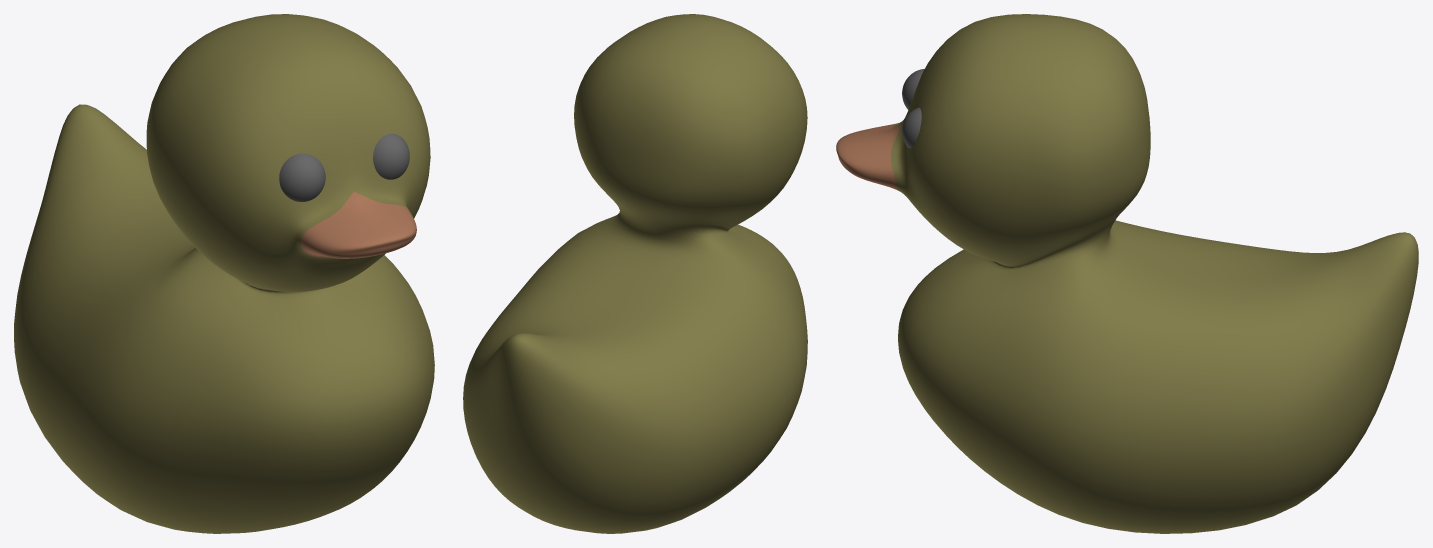
The model's file is duck_smooth.fbx.
The picture shows the model from 3 angles, left to right: view 1: azimuth 30°, elevation 25°; view 2: azimuth 150°, elevation 25°; view 3: azimuth 270°, elevation 25°; orthographic projection. The views are drawn at different scales.
Visible parts, largest first — view 1: pCube1, pSphere1, pSphere2; view 2: pCube1; view 3: pCube1.
Part boxes in pixels (x1,y1,x2,y2): pCube1: (14,14,434,533); pSphere1: (279,153,325,201); pSphere2: (373,133,409,179); pCube1: (463,14,807,533); pCube1: (836,14,1418,533).
Bounding box in the file's own units: 6.91 × 10.65 × 11.64.
